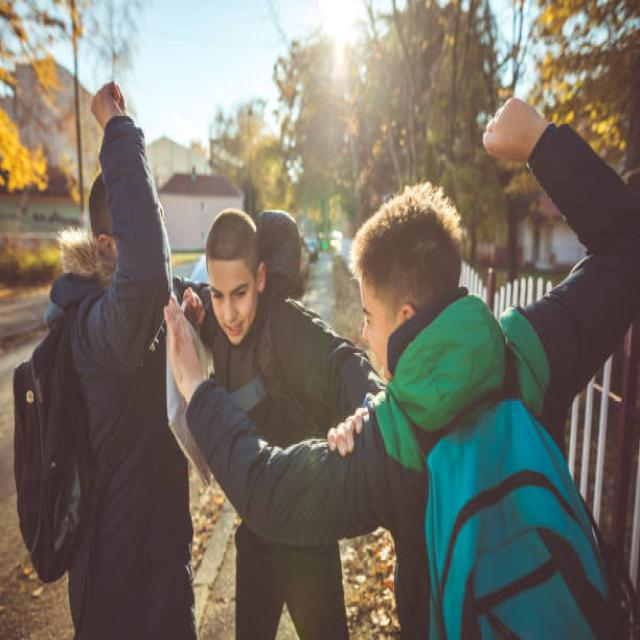fight: (197, 80, 569, 640), (17, 74, 305, 640)
